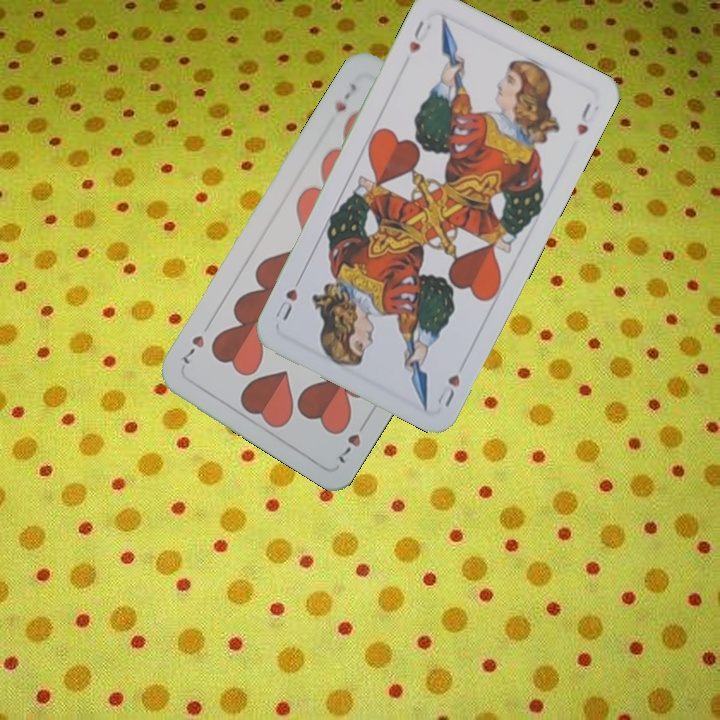H7: (334, 414, 371, 466), (331, 79, 360, 115)
HU: (433, 370, 463, 410), (405, 16, 434, 57)
